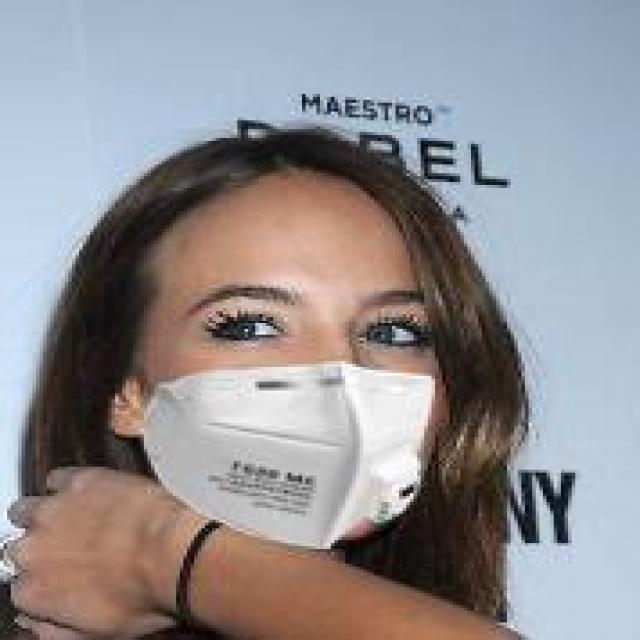mask: (93, 85, 507, 564)
